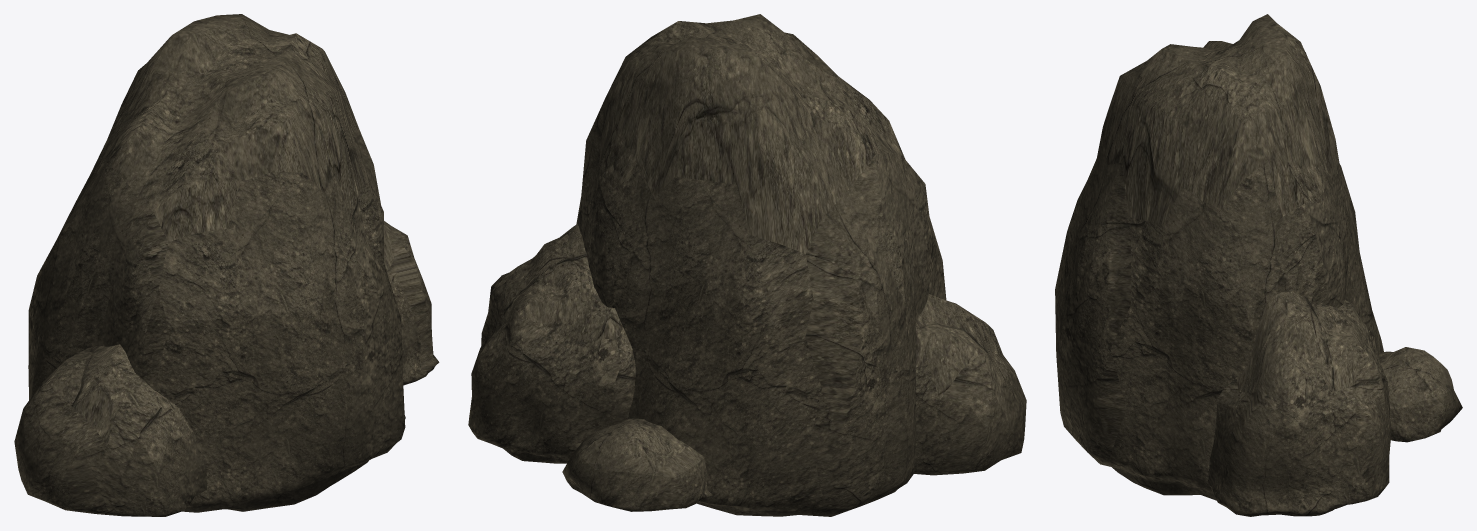
The model's file is rock_large_02_real.glb.
3 renders of one model, left to right at view 1: azimuth 30°, elevation 25°; view 2: azimuth 150°, elevation 25°; view 3: azimuth 270°, elevation 25°, orthographic. The views are drawn at different scales.
Visible parts, largest first — view 1: rock_large_02; view 2: rock_large_02; view 3: rock_large_02.
Boxes of the visible parts, <box> form: rock_large_02: <box>14,14,439,516</box>; rock_large_02: <box>468,14,1026,516</box>; rock_large_02: <box>1055,14,1462,516</box>.
Size of the model in its own units: 2.53 by 2.35 by 1.98.
3 materials, 3 textured.
